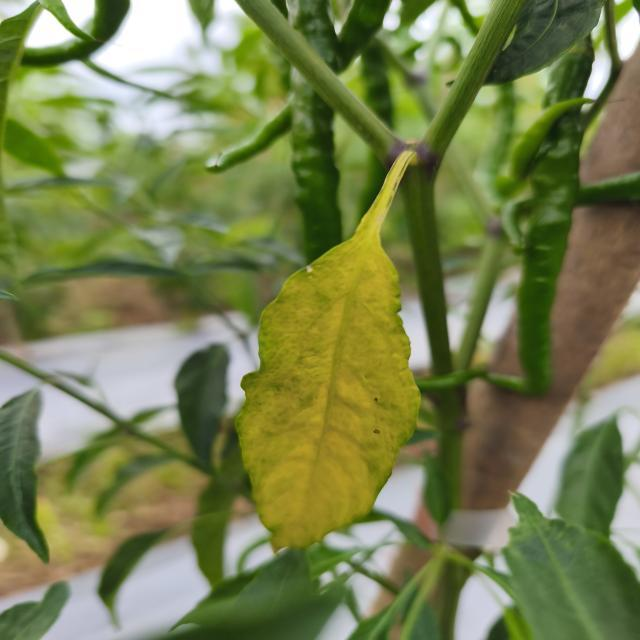Virus Kuning: (233, 228, 420, 553)
